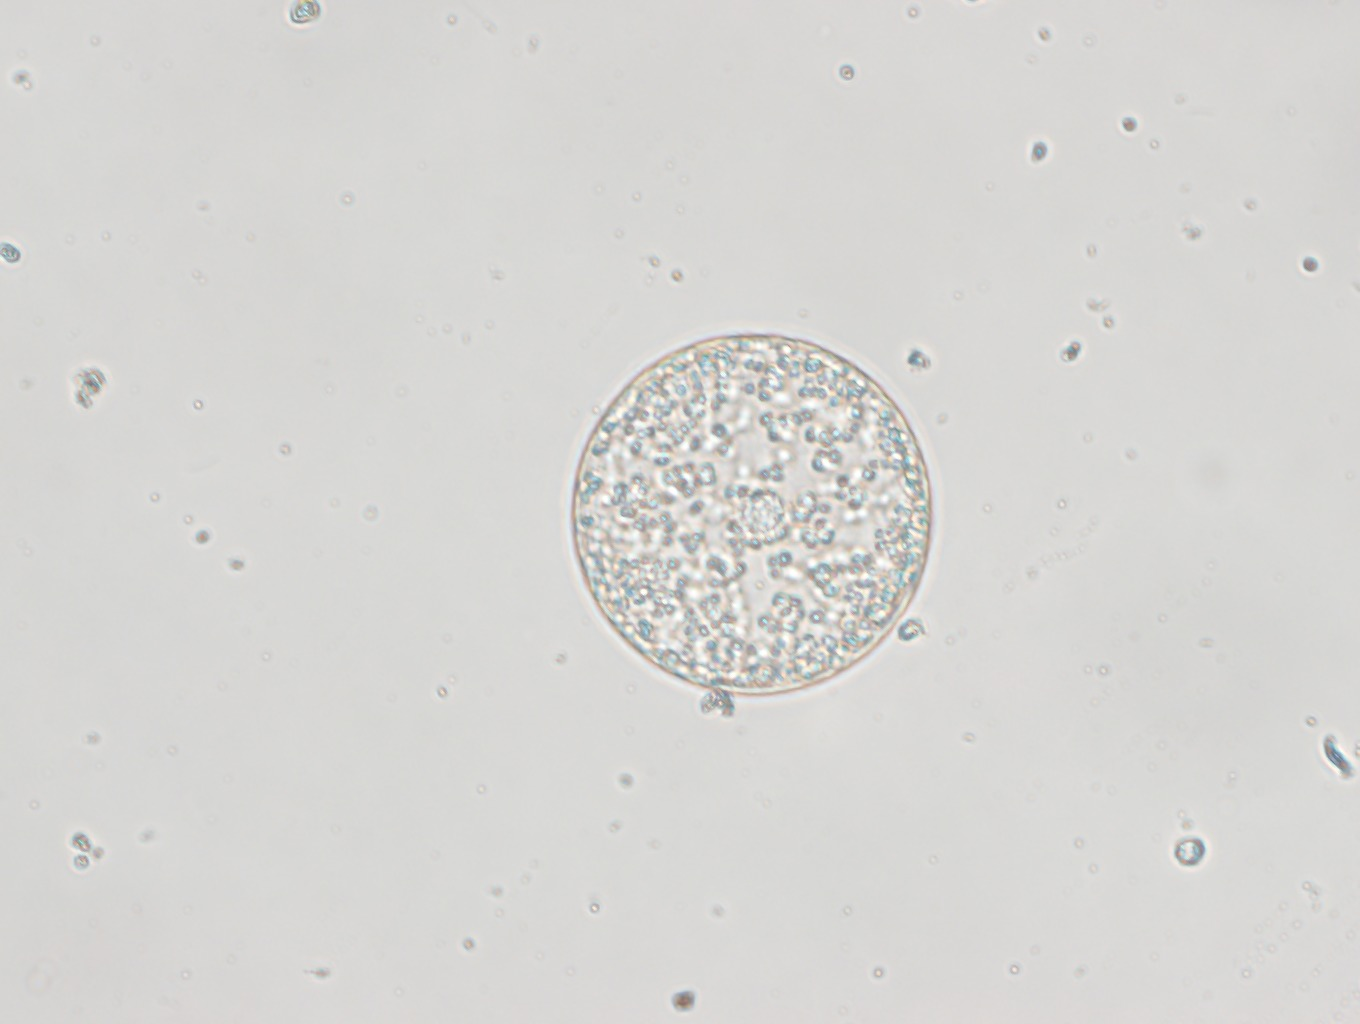coscinodiscus: (564, 327, 935, 701)
